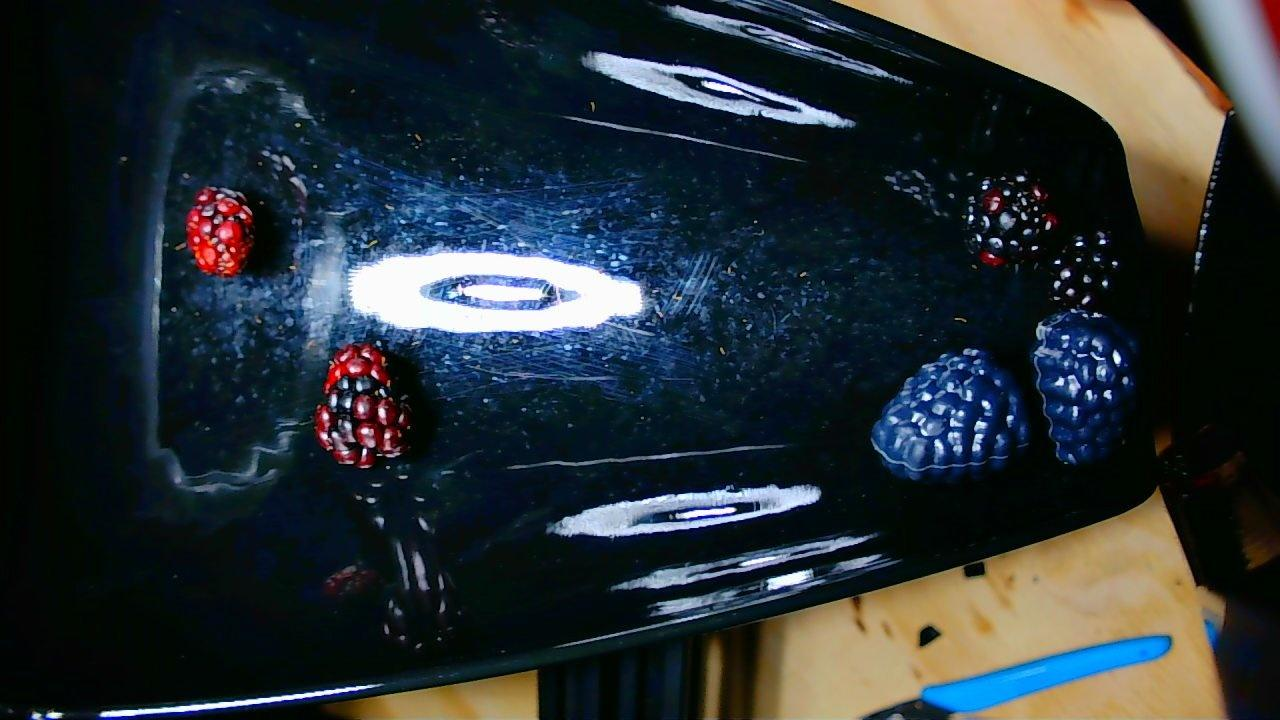berry: (871, 348, 1030, 481), (1032, 310, 1136, 463), (314, 345, 410, 467), (966, 172, 1058, 265), (186, 187, 255, 276), (1050, 231, 1120, 311)
